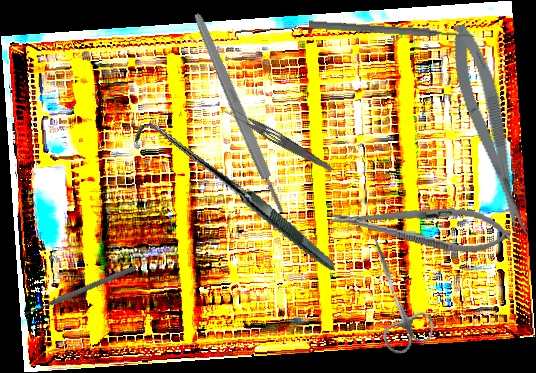Dressing Forceps: (222, 102, 337, 175)
Hook Surgical: (132, 92, 335, 306)
Iris Scissors: (347, 226, 440, 358)
Micro Scissor: (443, 19, 536, 242)
Needle Holder: (329, 194, 513, 258)
Pusher: (21, 263, 138, 319), (308, 19, 475, 42)
Scalpel Handle: (190, 10, 288, 216)
